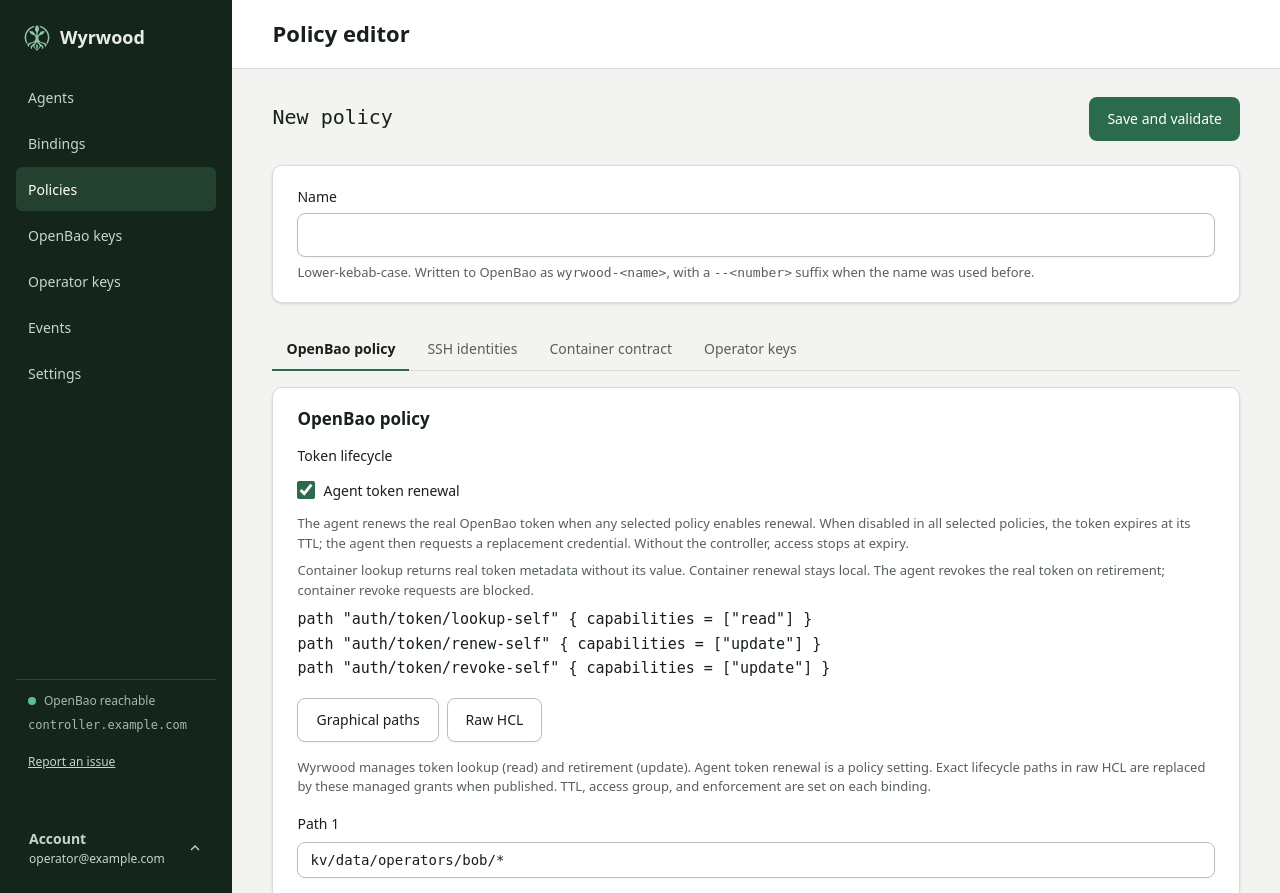
Test: offers the keys when a policy is created
Click the tab "Operator keys" at (750, 349), box [690,327,811,371]
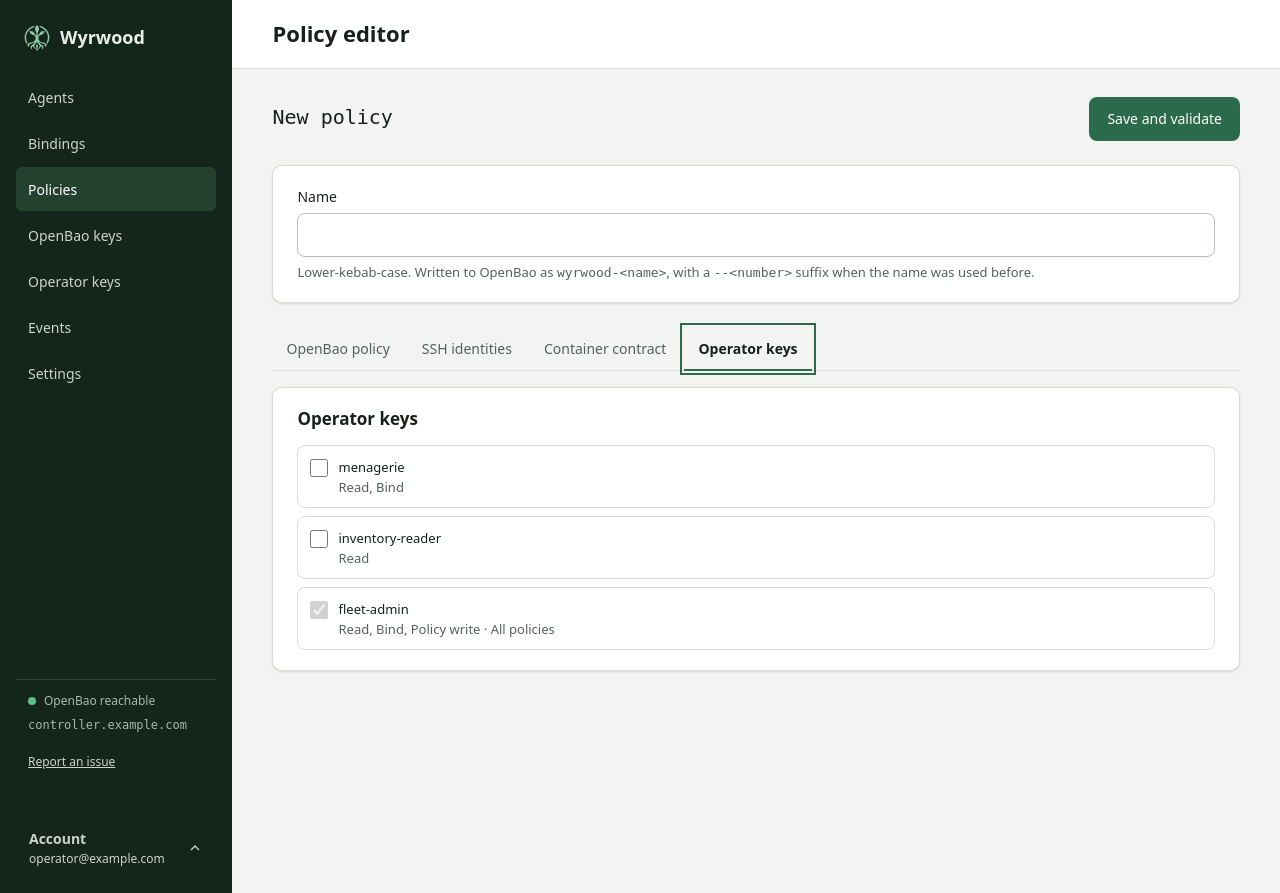
Expected: the checkbox labelled "menagerie Read, Bind" is not checked, [310,459,328,477]
